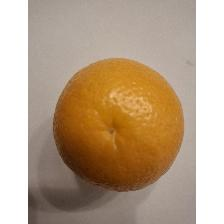Orange: (50, 55, 187, 196)
